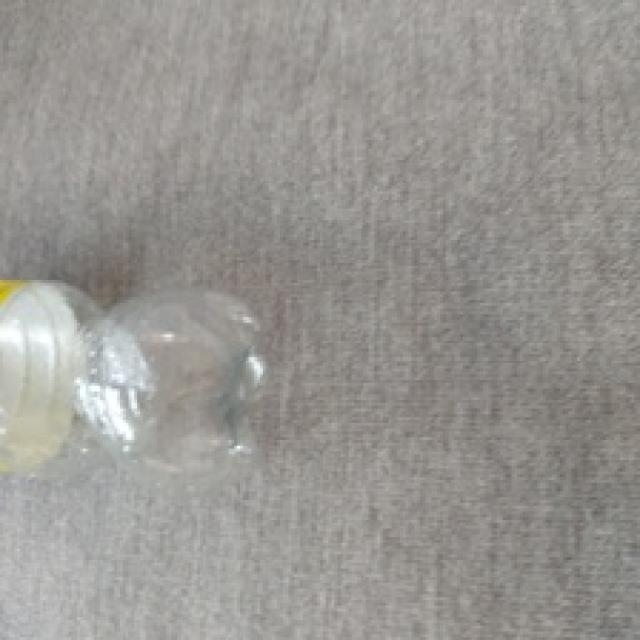Plastic: (0, 281, 269, 464)
